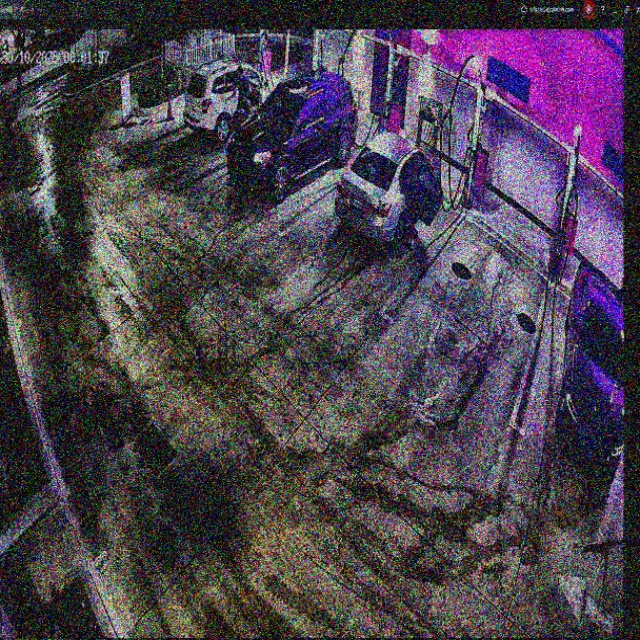Car: (229, 68, 356, 205), (336, 133, 441, 246), (184, 60, 281, 142)
